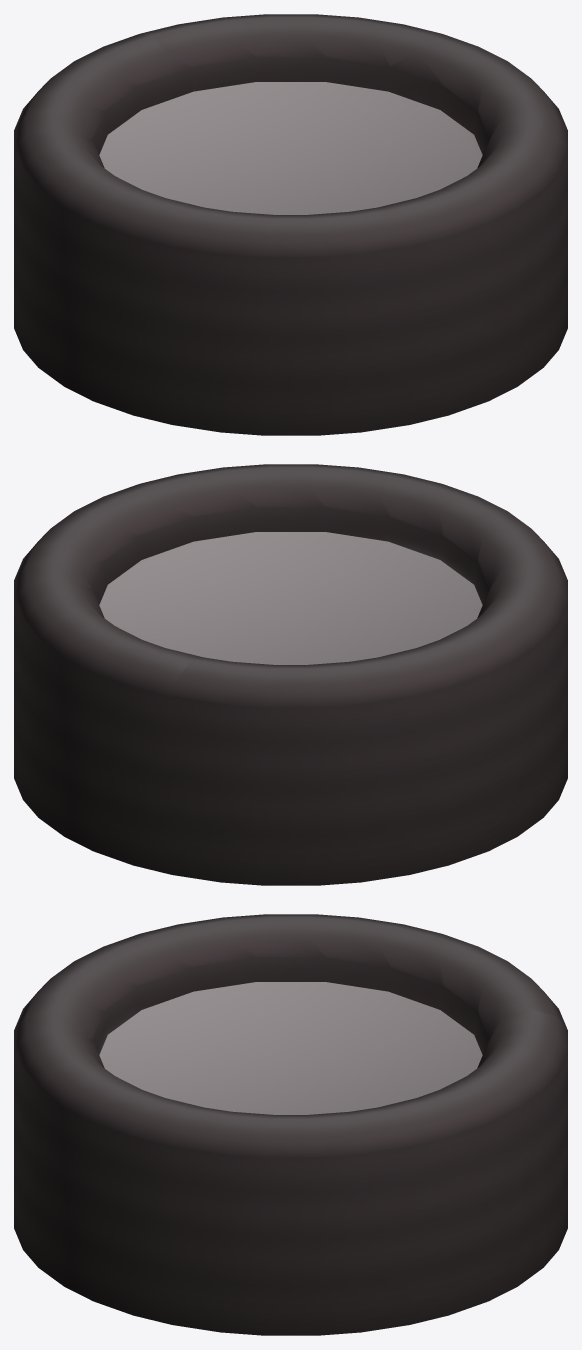
Rendered from model_Obstacle_new.fbx.
3 views of the same model, one above another, from view 1: azimuth 30°, elevation 25°; view 2: azimuth 150°, elevation 25°; view 3: azimuth 270°, elevation 25° (orthographic).
Visible parts, largest first — view 1: model_Obstacle; view 2: model_Obstacle; view 3: model_Obstacle.
Boxes of the visible parts, box(x1,y1,x2,y2) form: model_Obstacle: box(14, 14, 567, 435); model_Obstacle: box(14, 464, 567, 885); model_Obstacle: box(14, 914, 567, 1335).
Size of the model in its own units: 82.17 by 32.82 by 82.27.
